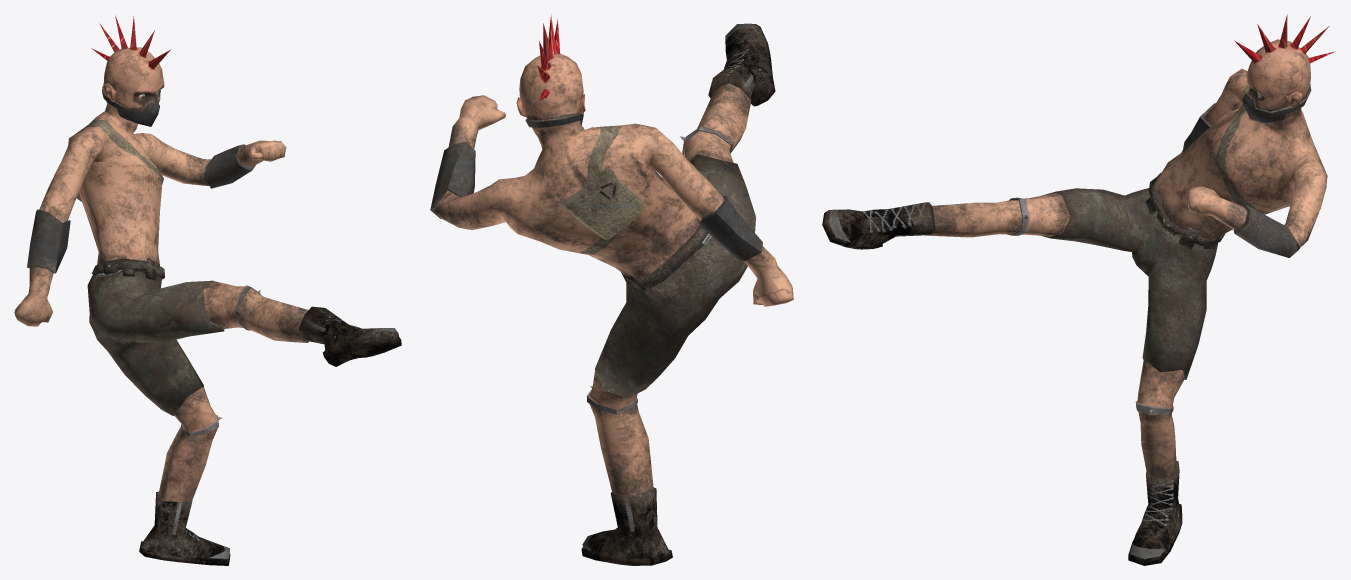
Rendered from Anim_ataque_f2_npc2.0019.obj.
3 views of the same model, side by side, from view 1: azimuth 30°, elevation 25°; view 2: azimuth 150°, elevation 25°; view 3: azimuth 270°, elevation 25° (orthographic). The views are drawn at different scales.
Visible parts, largest first — view 1: polySurface1; view 2: polySurface1; view 3: polySurface1.
Part boxes in pixels (x1,y1,x2,y2): polySurface1: (14,15,401,565); polySurface1: (430,14,793,565); polySurface1: (822,14,1335,565).
Bounding box in the file's own units: 5.31 × 9.36 × 8.13.
